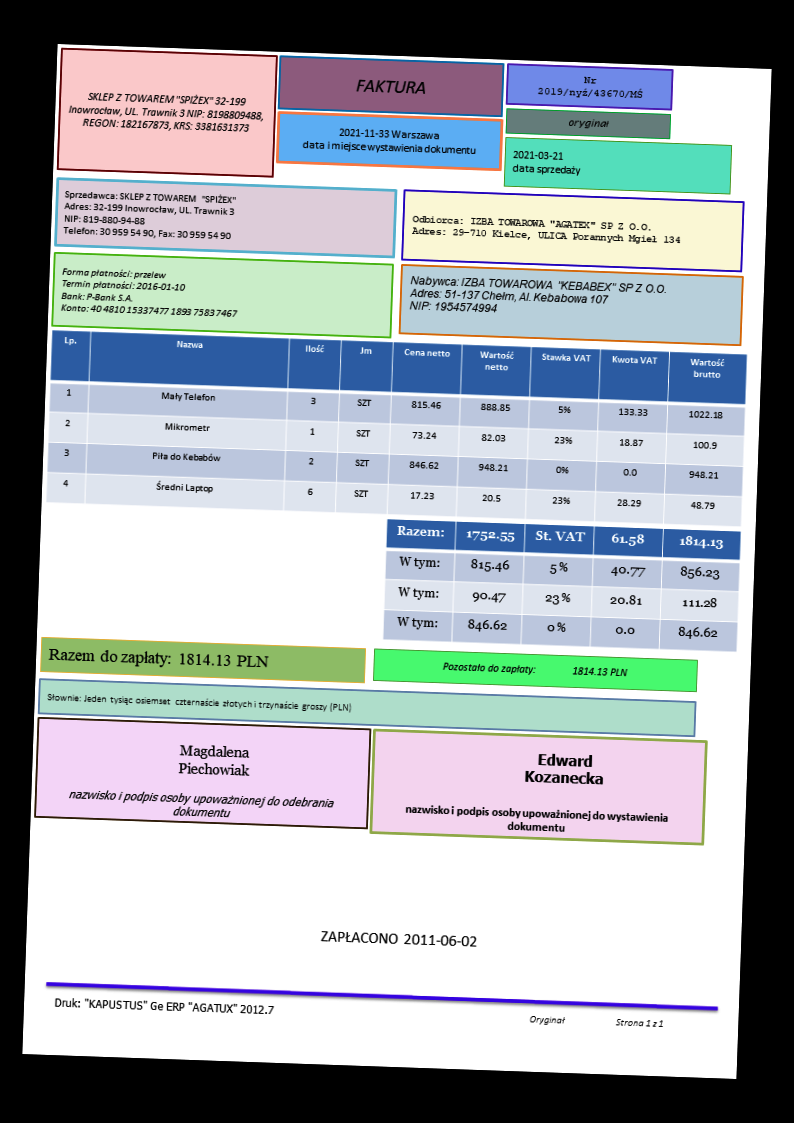Table: (42, 327, 749, 528), (381, 519, 744, 655)
TextBox: (404, 269, 673, 323), (401, 798, 673, 841), (408, 209, 685, 250), (57, 263, 242, 324), (64, 784, 338, 824), (64, 87, 268, 138), (42, 684, 356, 717), (60, 186, 238, 244), (43, 641, 269, 674), (48, 992, 277, 1022), (299, 121, 480, 158), (316, 922, 484, 956), (439, 655, 633, 683), (521, 745, 608, 792), (535, 71, 647, 105), (174, 740, 253, 782), (525, 1009, 667, 1032), (508, 143, 584, 182), (352, 73, 427, 98), (565, 116, 612, 133)
